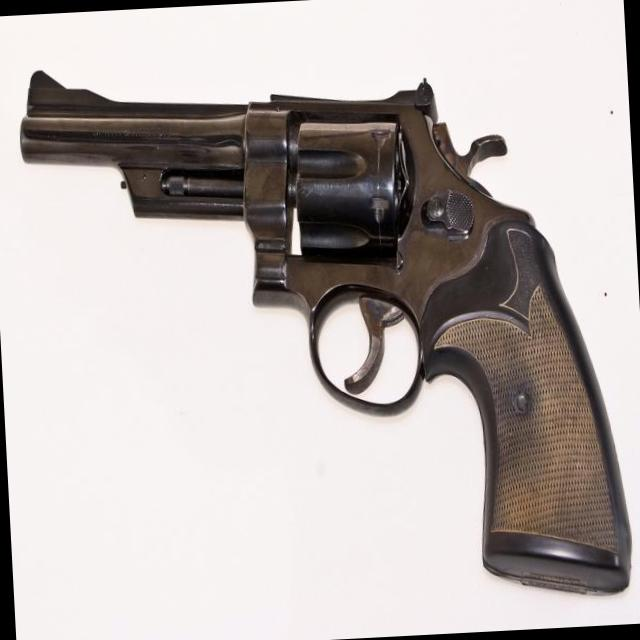Gun: (21, 72, 630, 592)
